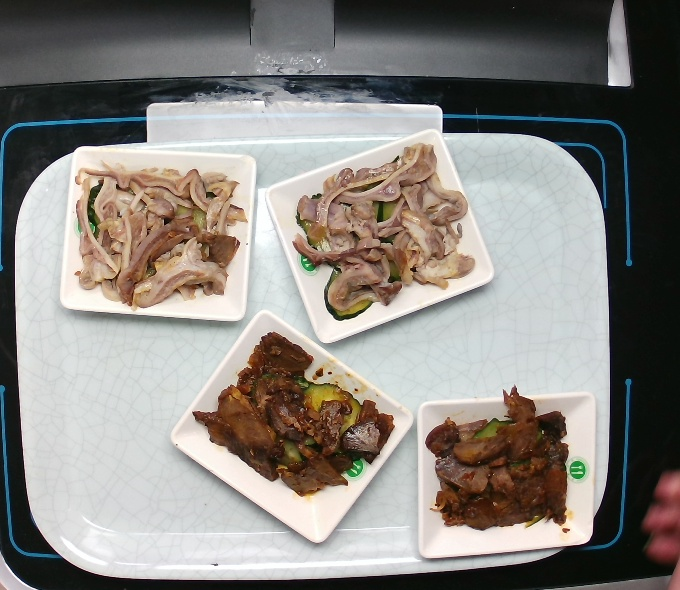wcq-JiangNiuRou: (182, 324, 400, 500), (415, 376, 583, 541)
wcq-ZhuDu: (285, 137, 478, 322), (58, 151, 249, 313)
